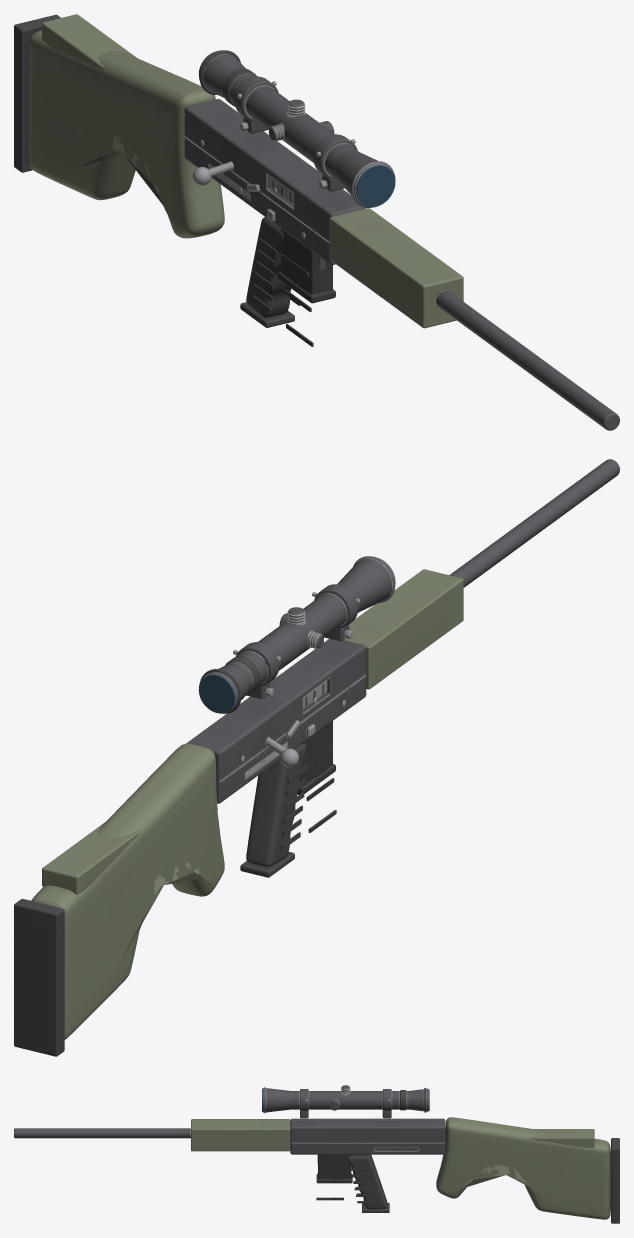
Rendered from ssg08.fbx.
3 views of the same model, one above another, from view 1: azimuth 30°, elevation 25°; view 2: azimuth 150°, elevation 25°; view 3: azimuth 270°, elevation 25° (orthographic). The views are drawn at different scales.
Visible parts, largest first — view 1: ssg08; view 2: ssg08; view 3: ssg08.
Part boxes in pixels (bbox=[...]): ssg08: bbox=[14, 14, 619, 430]; ssg08: bbox=[14, 459, 619, 1056]; ssg08: bbox=[14, 1085, 619, 1223].
Bounding box in the file's own units: 0.0825 × 0.2631 × 1.1.
